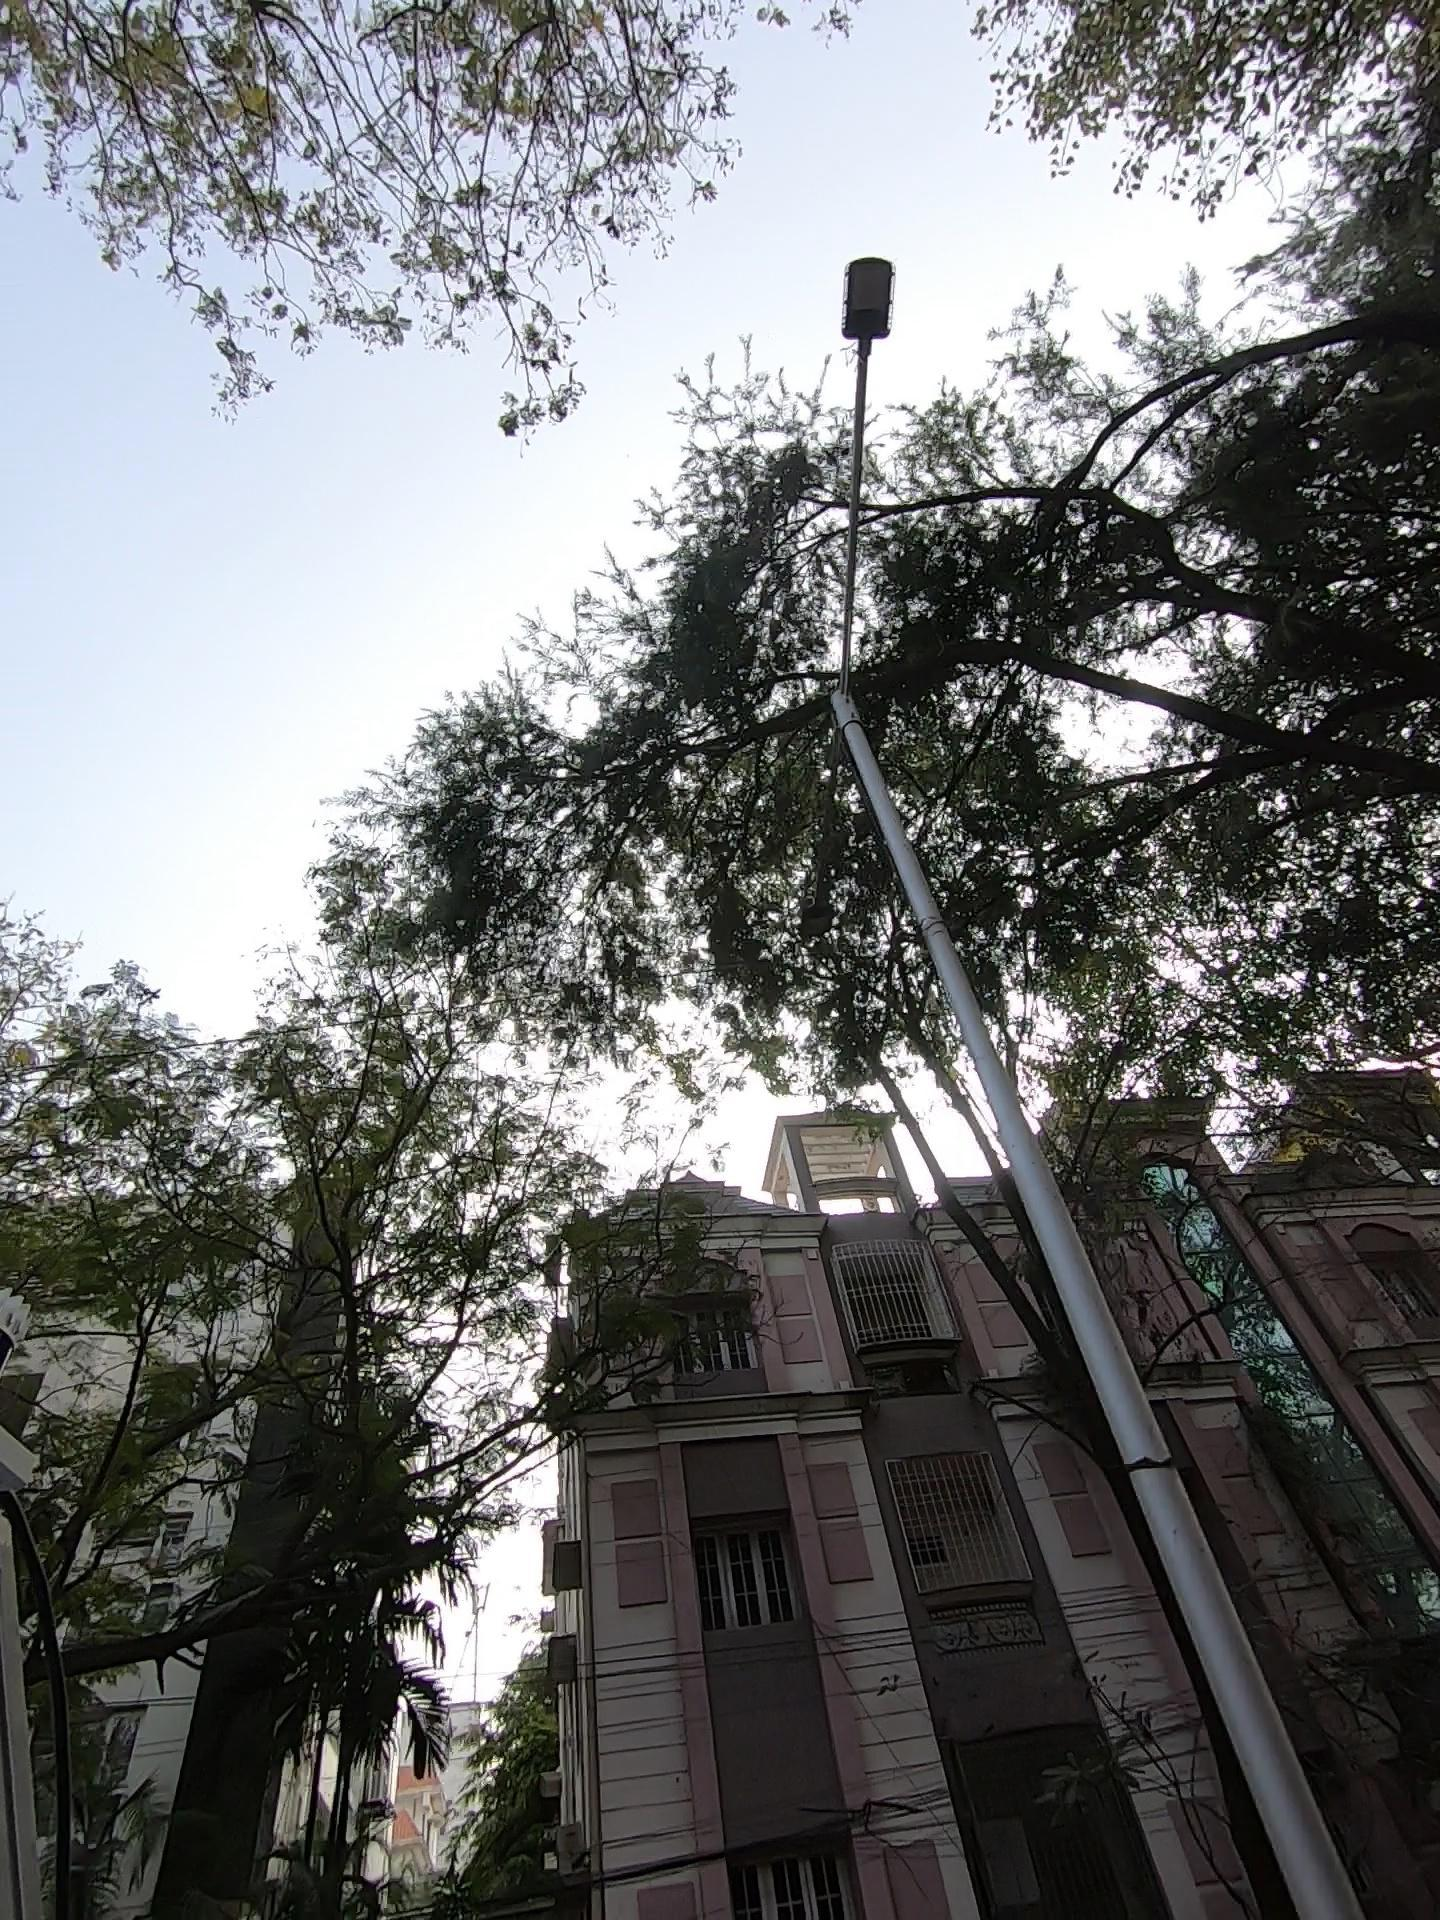off: (740, 255, 947, 652)
